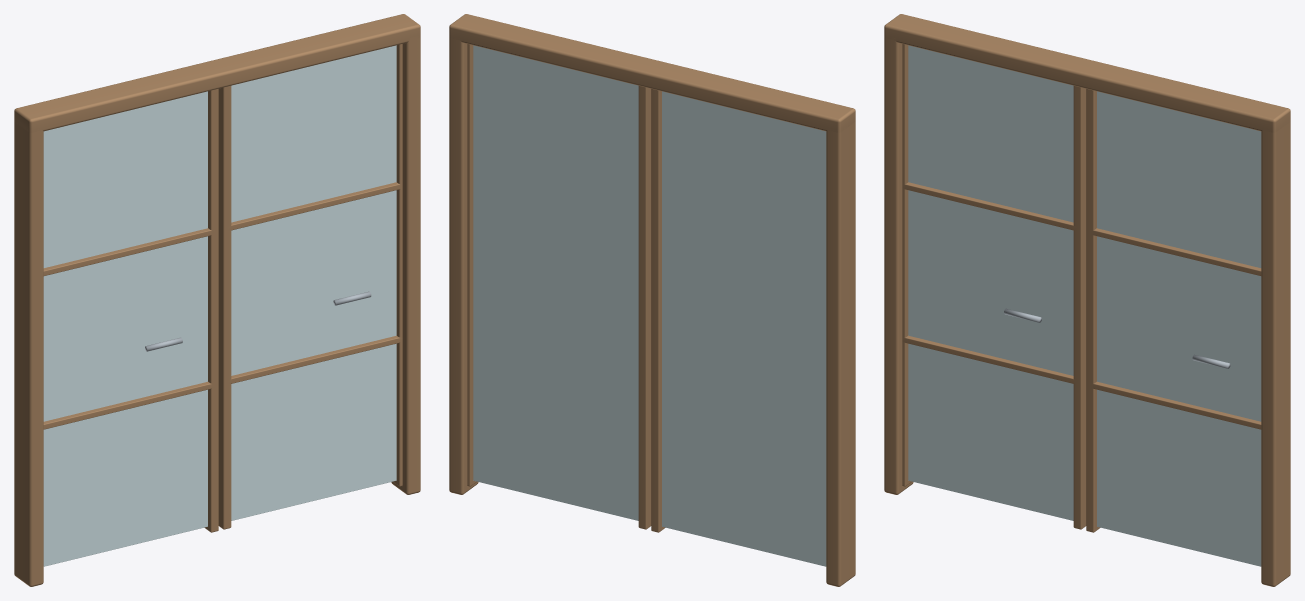
File: atelier-french-door.glb
3 views of the same model, side by side, from view 1: azimuth 30°, elevation 25°; view 2: azimuth 150°, elevation 25°; view 3: azimuth 330°, elevation 25° (orthographic).
Visible parts, largest first — view 1: glass.025, legs.246; view 2: glass.025, legs.246; view 3: glass.025, legs.246.
Boxes of the visible parts, x1,y1,x2,y2 form: glass.025: (43, 45, 396, 566); legs.246: (14, 14, 420, 586); glass.025: (473, 45, 826, 566); legs.246: (449, 14, 855, 586); glass.025: (908, 45, 1261, 566); legs.246: (884, 14, 1290, 586).
Bounding box in the file's own units: 1.87 × 2.13 × 0.14.
